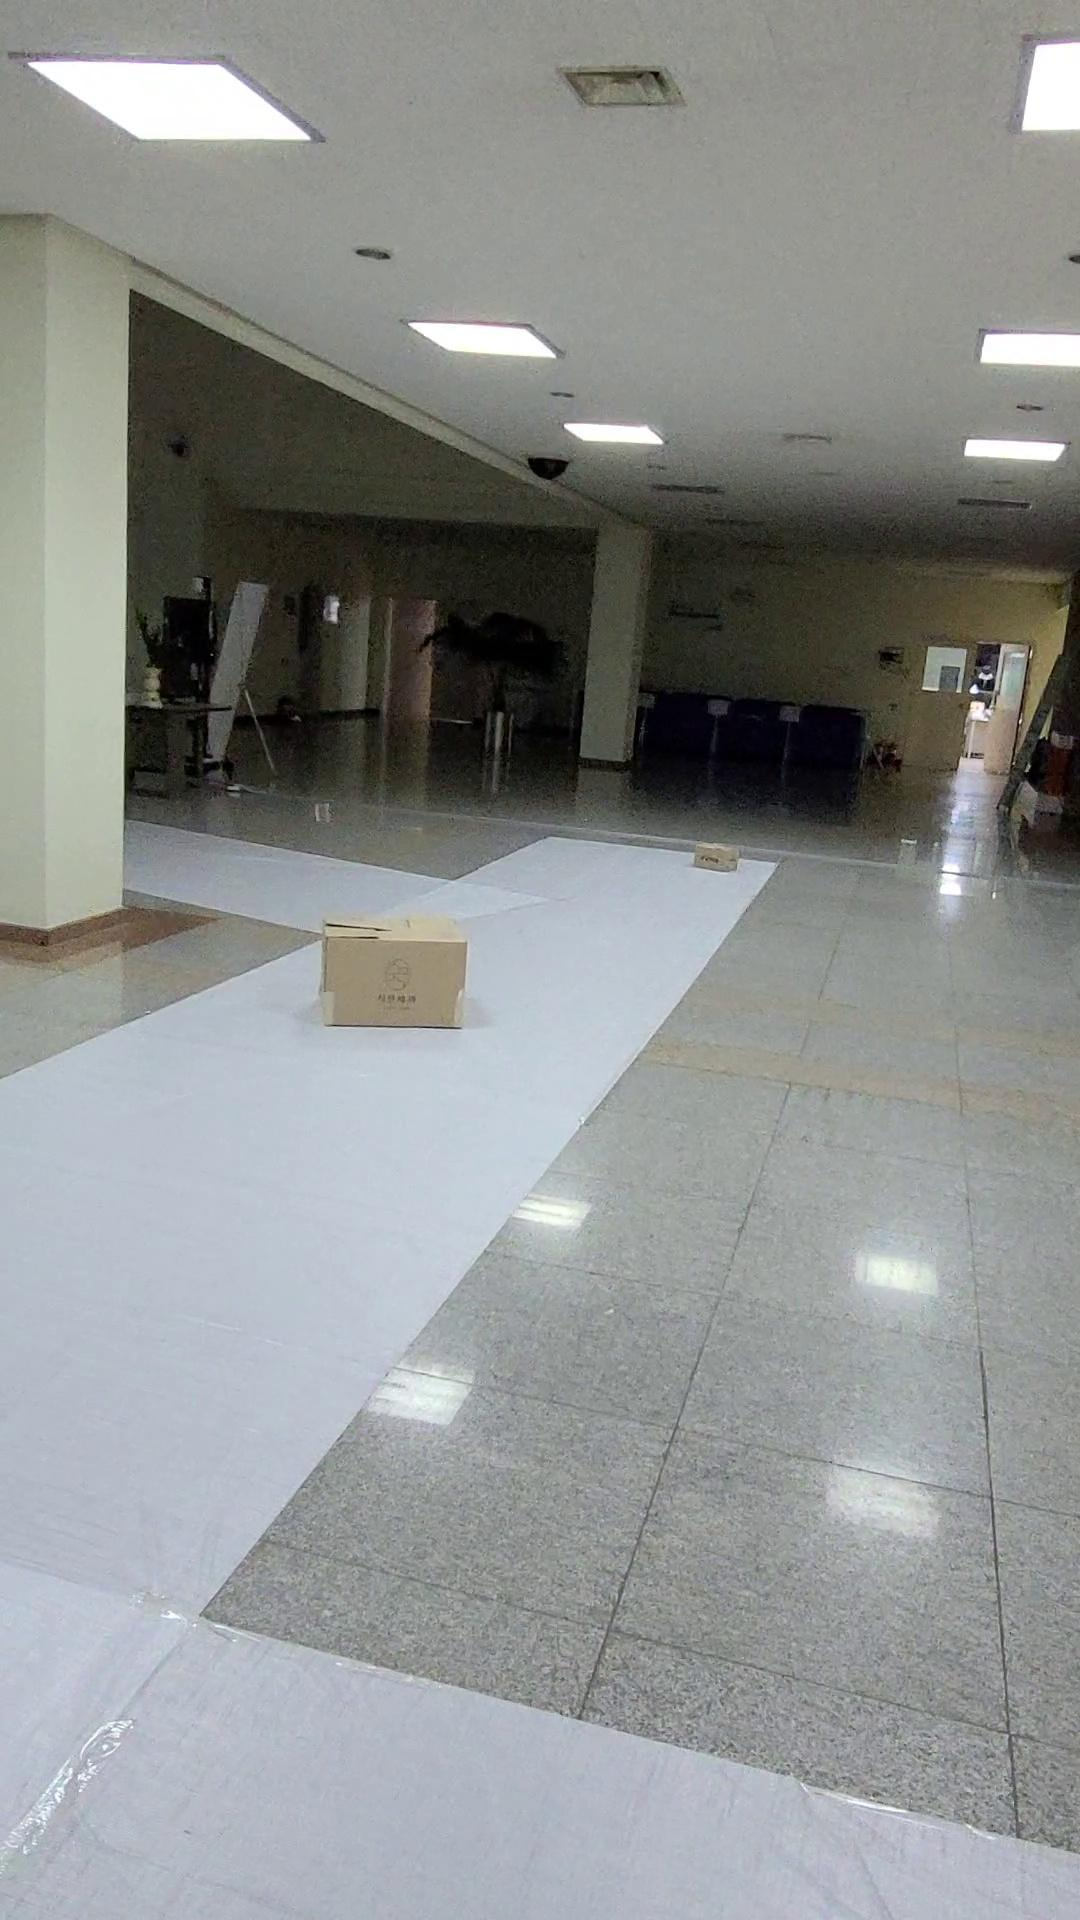Box: (309, 903, 480, 1033), (694, 833, 744, 884)
